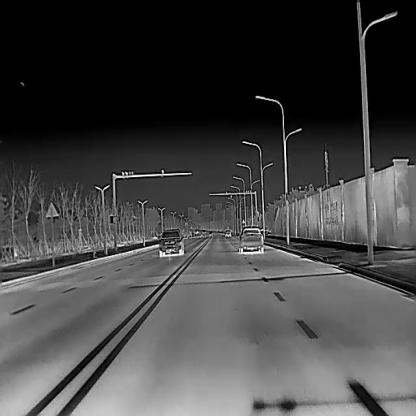car: (158, 227, 183, 256), (239, 225, 263, 252), (223, 229, 230, 237)
